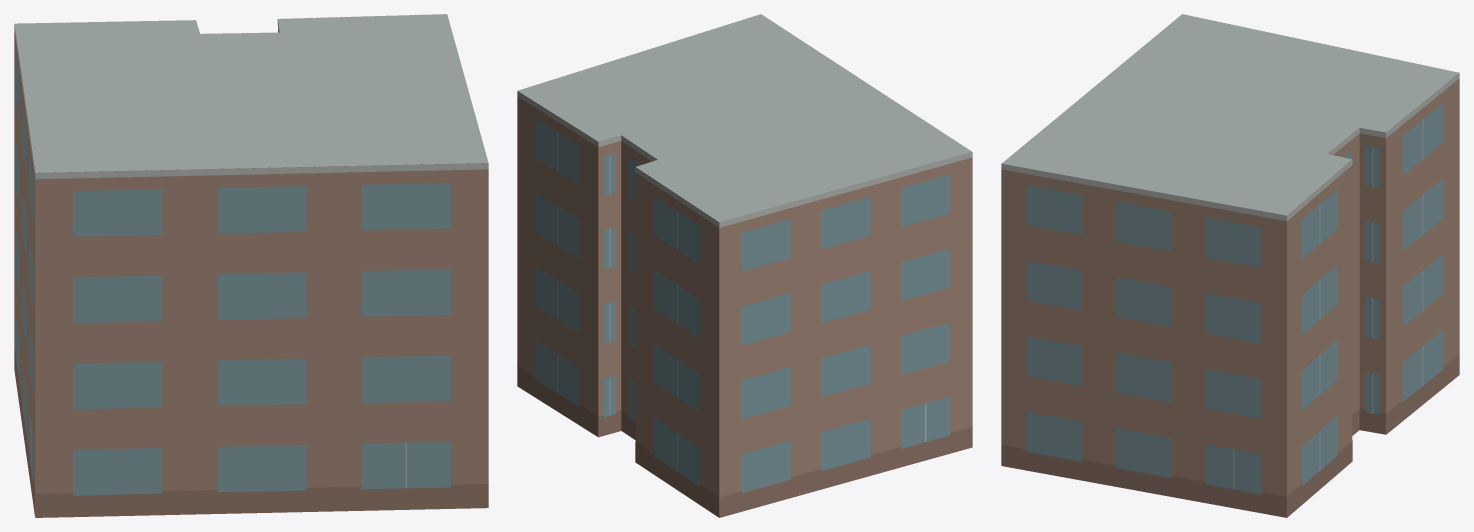
Rendered from survey-upis-32827059.glb.
The picture shows the model from 3 angles, left to right: view 1: azimuth 30°, elevation 25°; view 2: azimuth 150°, elevation 25°; view 3: azimuth 270°, elevation 25°; orthographic projection. The views are drawn at different scales.
Parts seen in each view (by area): view 1: survey-upis-32827059.tmp; view 2: survey-upis-32827059.tmp; view 3: survey-upis-32827059.tmp.
Boxes of the visible parts, x1,y1,x2,y2 form: survey-upis-32827059.tmp: [14, 14, 488, 517]; survey-upis-32827059.tmp: [517, 14, 972, 517]; survey-upis-32827059.tmp: [1001, 14, 1459, 517].
Bounding box in the file's own units: 18.75 × 13.1 × 18.
